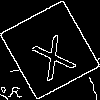X: (24, 25, 77, 82)
